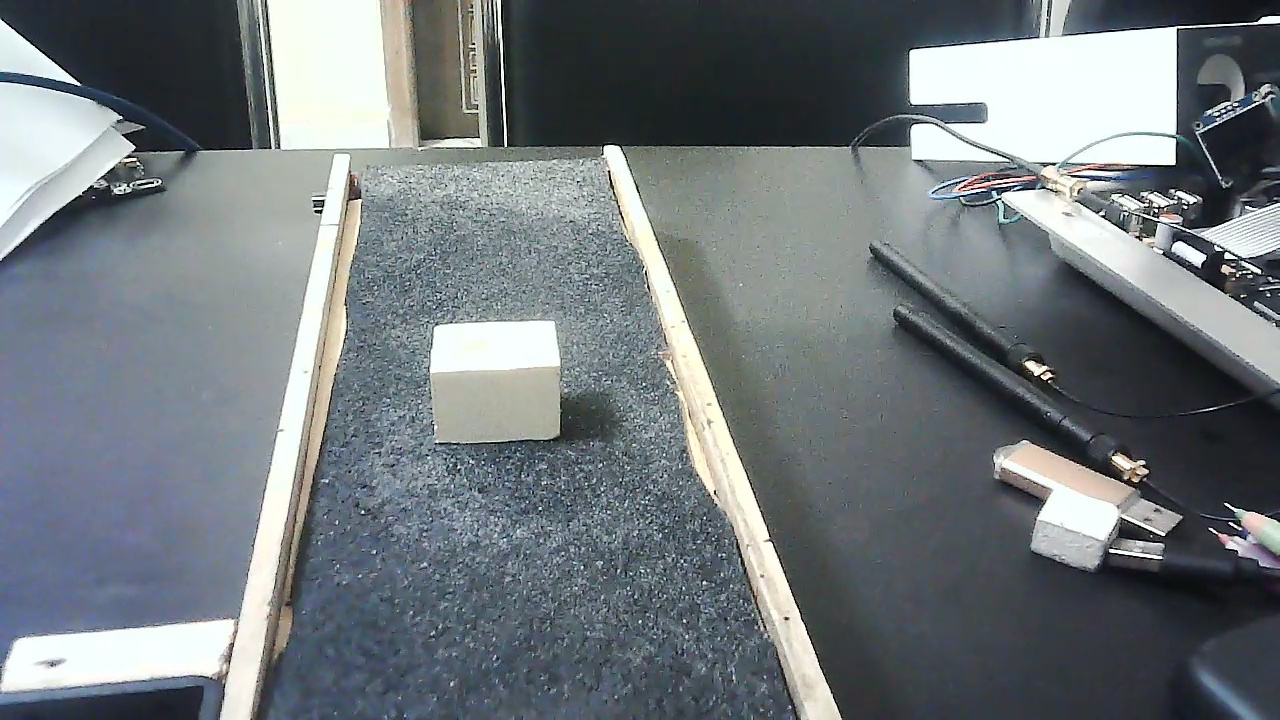Medium: (431, 316, 562, 447)
